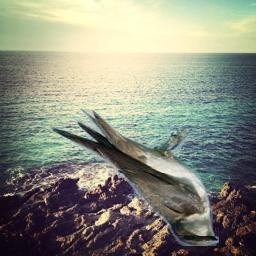Swallow: (53, 110, 220, 247)
